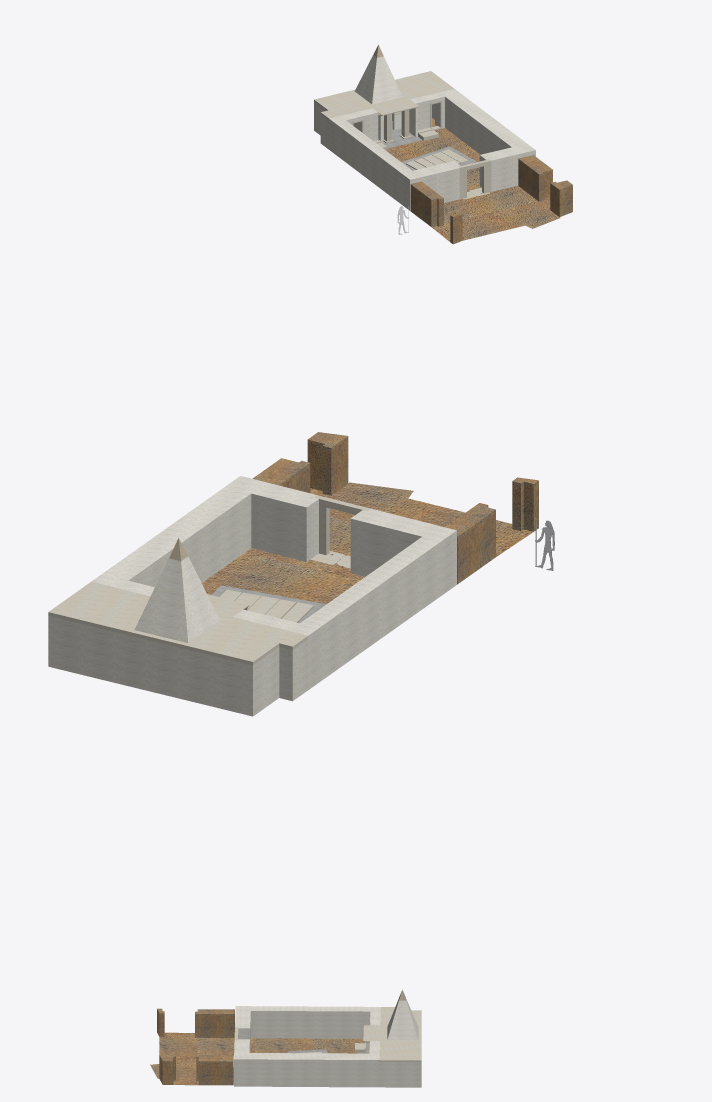
Rendered from Paser.obj.
The picture shows the model from 3 angles, top to bottom: view 1: azimuth 30°, elevation 25°; view 2: azimuth 150°, elevation 25°; view 3: azimuth 270°, elevation 25°; orthographic projection. The views are drawn at different scales.
Parts seen in each view (by area): view 1: Mesh5 Model; view 2: Mesh5 Model; view 3: Mesh5 Model.
Boxes of the visible parts, x1,y1,x2,y2 form: Mesh5 Model: (314, 44, 572, 244); Mesh5 Model: (48, 432, 538, 716); Mesh5 Model: (150, 989, 421, 1087).
Size of the model in its own units: 19.94 by 4.66 by 40.18.
